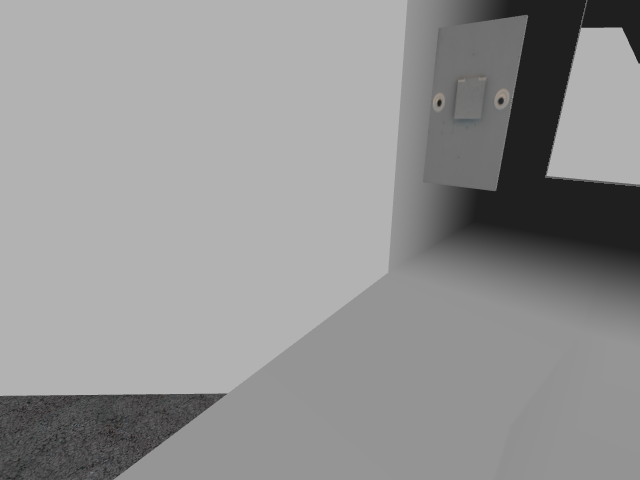facade: (432, 75, 510, 121)
